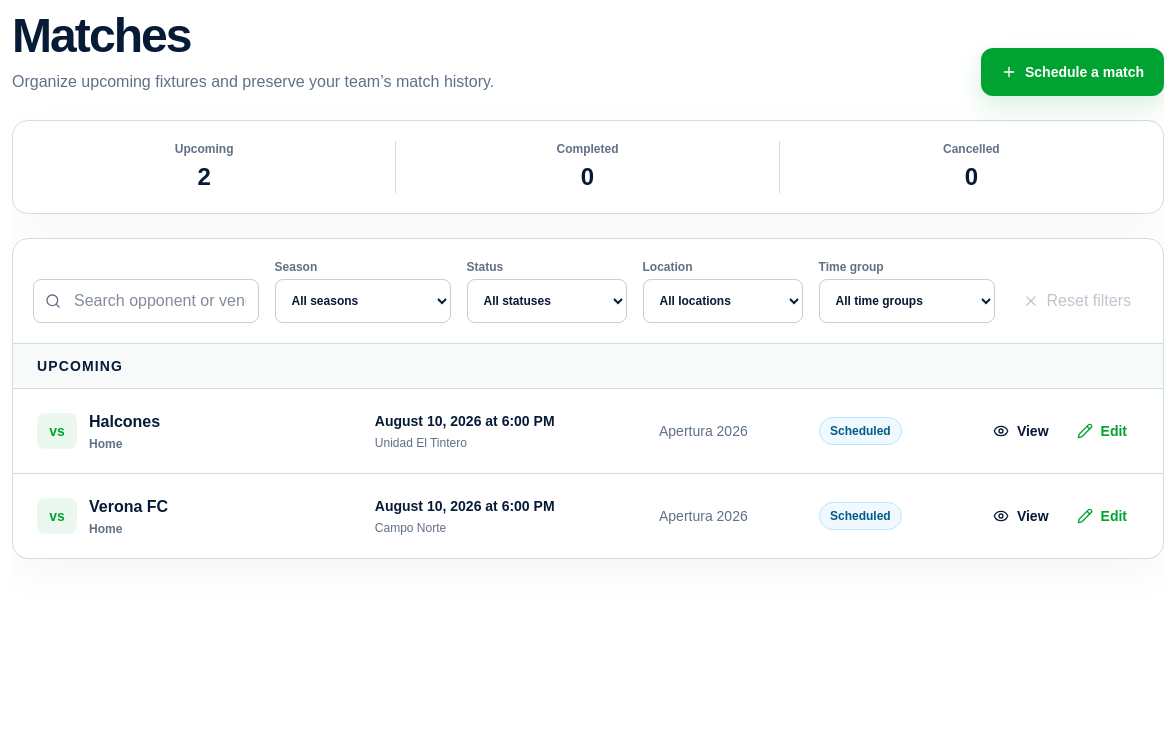
Test: MatchManagement › filters by opponent or venue and distinguishes filtered empty state
Type "tintero" into the field with placeholder "Search opponent or venue" at (146, 301), box [33,279,258,323]
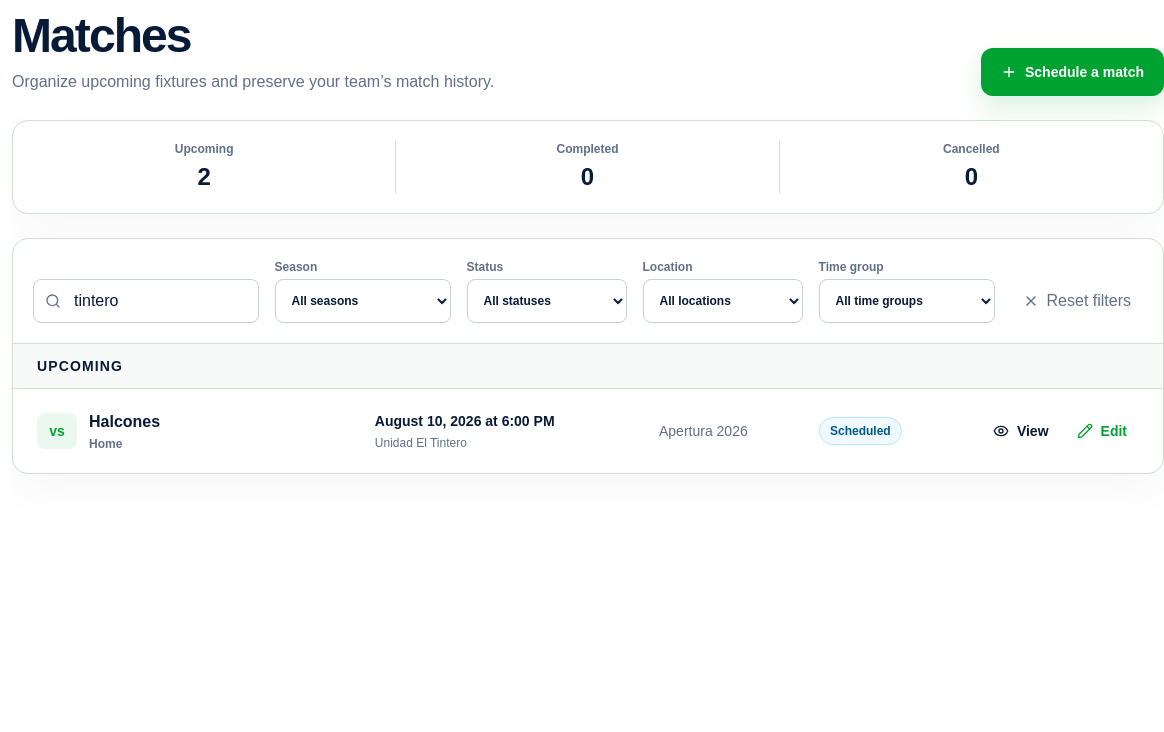
Expected: the text "Halcones" is shown, [89,410,160,434]
Now the text "Verona FC" is gone
Replace the text in the field with placeholder "Search opponent or venue" with "does not exist" at (146, 301), box [33,279,258,323]
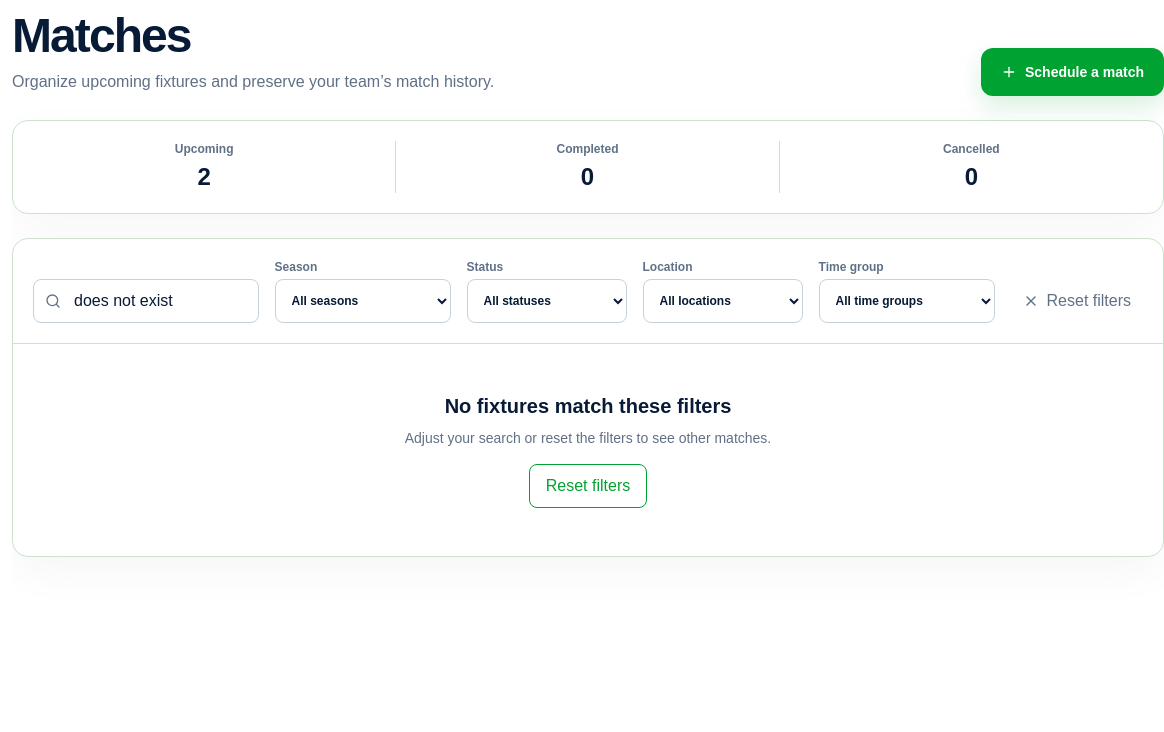
Now the heading "No fixtures match these filters" is shown, box [445,395,731,417]
Click the button "Reset filters" below "No fixtures match these filters" at (588, 486), box [529,464,647,508]
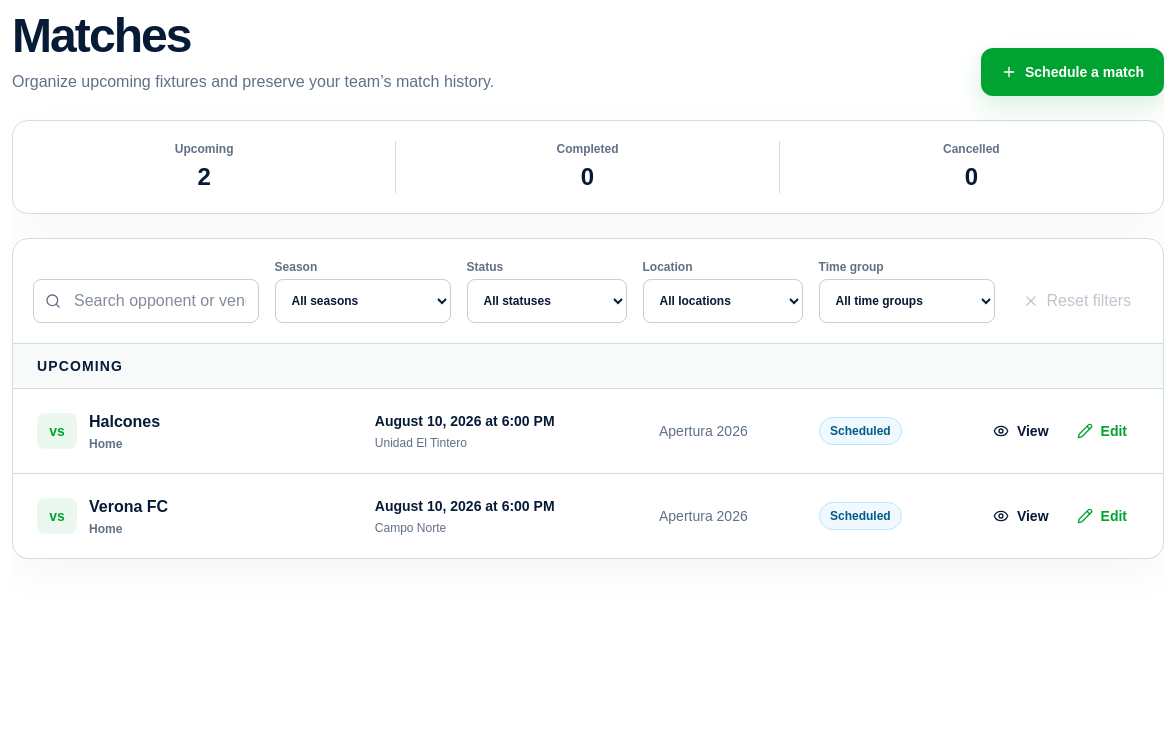
Now the text "Verona FC" is shown, box [89,495,168,519]
